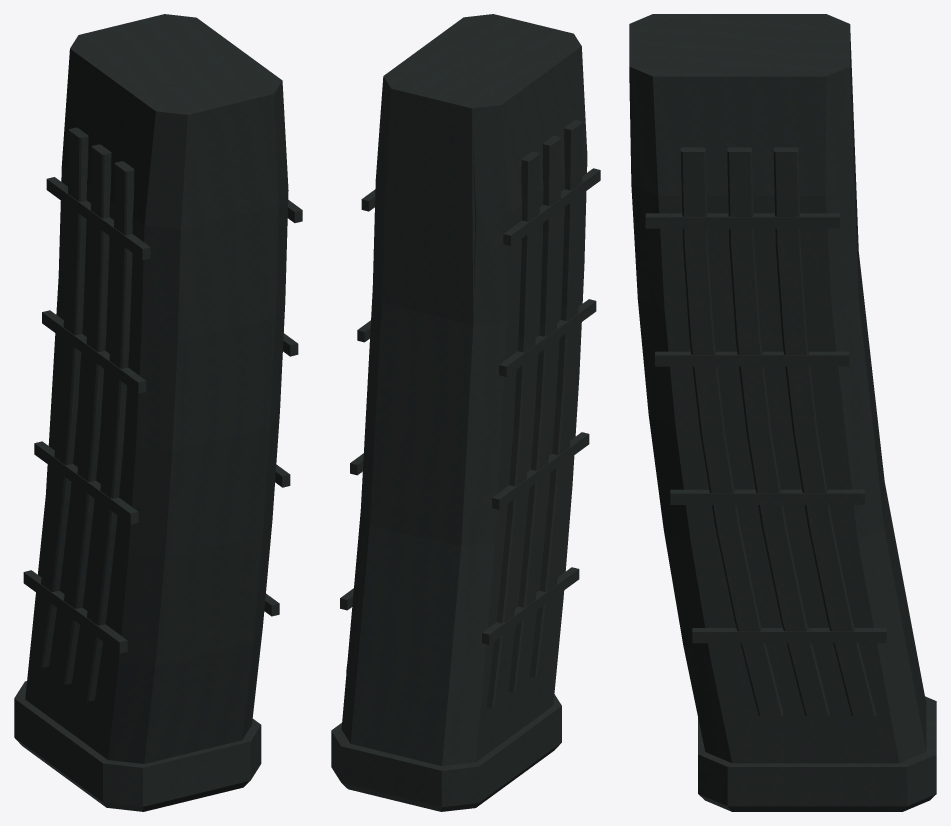
File: mpx_20.glb
3 renders of one model, left to right at view 1: azimuth 30°, elevation 25°; view 2: azimuth 150°, elevation 25°; view 3: azimuth 270°, elevation 25°, orthographic. The views are drawn at different scales.
Parts seen in each view (by area): view 1: mpx_20_individual_shell, mpx_20_individual_shell.001; view 2: mpx_20_individual_shell, mpx_20_individual_shell.001; view 3: mpx_20_individual_shell, mpx_20_individual_shell.001.
Boxes of the visible parts, x1,y1,x2,y2 form: mpx_20_individual_shell: (14, 14, 302, 811); mpx_20_individual_shell.001: (25, 277, 141, 758); mpx_20_individual_shell: (331, 14, 600, 811); mpx_20_individual_shell.001: (341, 89, 580, 765); mpx_20_individual_shell: (629, 14, 936, 811); mpx_20_individual_shell.001: (665, 24, 926, 763).
Size of the model in its own units: 0.06 by 0.259 by 0.0988.
1 material, 1 textured.
